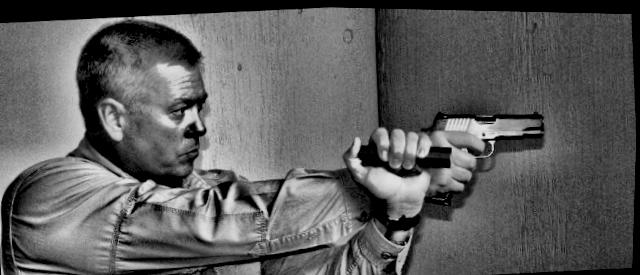pistol: (400, 94, 551, 211)
